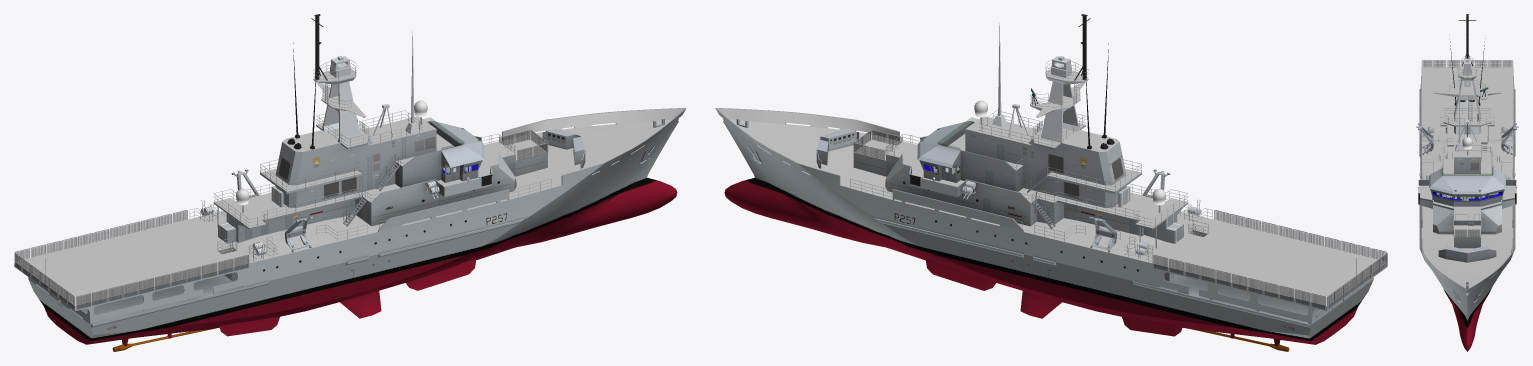
The model's file is hms_clyde.gltf.
3 renders of one model, left to right at view 1: azimuth 30°, elevation 25°; view 2: azimuth 150°, elevation 25°; view 3: azimuth 270°, elevation 25°, orthographic. The views are drawn at different scales.
Visible parts, largest first — view 1: hull, main_deck, ss_back, ss_decks, ss_front, railings, ss_bridge, net_right_Details_0, ss_top, lower_deck, net_left_Details_0, guard (+2 smaller); view 2: hull, main_deck, ss_back, ss_decks, ss_front, ss_bridge, railings, net_left_Details_0, ss_top, lower_deck, net_right_Details_0, guard (+2 smaller); view 3: main_deck, ss_decks, hull, ss_bridge, ss_front, railings, ss_back, guard, ss_top, net_back_Details_0, lower_deck, gun_net_front_Details_0 (+10 smaller).
Boxes of the visible parts, left/top/right/bottom form: hull: left=14, top=108, right=686, bottom=351; main_deck: left=15, top=108, right=684, bottom=305; ss_back: left=213, top=125, right=436, bottom=243; ss_decks: left=214, top=69, right=546, bottom=227; ss_front: left=371, top=121, right=547, bottom=226; railings: left=189, top=59, right=551, bottom=262; ss_bridge: left=395, top=121, right=484, bottom=187; net_right_Details_0: left=76, top=254, right=248, bottom=309; ss_top: left=313, top=55, right=365, bottom=142; lower_deck: left=36, top=247, right=268, bottom=324; net_left_Details_0: left=15, top=209, right=187, bottom=261; guard: left=542, top=128, right=585, bottom=168; hull: left=715, top=108, right=1387, bottom=351; main_deck: left=717, top=108, right=1386, bottom=305; ss_back: left=965, top=125, right=1188, bottom=248; ss_decks: left=854, top=69, right=1187, bottom=228; ss_front: left=853, top=122, right=1030, bottom=226; ss_bridge: left=917, top=121, right=1023, bottom=191; railings: left=850, top=59, right=1212, bottom=262; net_left_Details_0: left=1153, top=254, right=1325, bottom=309; ss_top: left=1030, top=55, right=1088, bottom=142; lower_deck: left=1133, top=230, right=1365, bottom=324; net_right_Details_0: left=1214, top=210, right=1386, bottom=261; guard: left=816, top=128, right=859, bottom=168; main_deck: left=1421, top=67, right=1513, bottom=288; ss_decks: left=1419, top=66, right=1515, bottom=237; hull: left=1419, top=76, right=1515, bottom=351; ss_bridge: left=1429, top=152, right=1505, bottom=206; ss_front: left=1418, top=160, right=1516, bottom=248; railings: left=1422, top=56, right=1512, bottom=220; ss_back: left=1440, top=122, right=1494, bottom=173; guard: left=1438, top=245, right=1496, bottom=262; ss_top: left=1433, top=58, right=1501, bottom=122; net_back_Details_0: left=1422, top=60, right=1512, bottom=67; lower_deck: left=1419, top=89, right=1515, bottom=154; gun_net_front_Details_0: left=1454, top=229, right=1480, bottom=237.
Bounding box in the file's own units: 82.05 × 35.65 × 14.95.
